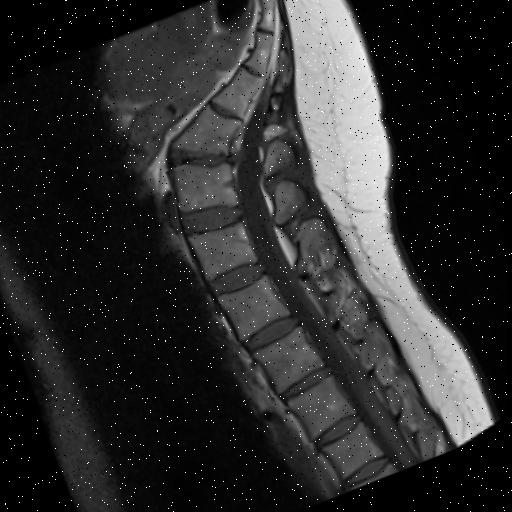L1: (288, 375, 354, 440)
L2: (255, 326, 324, 392)
L3: (218, 276, 288, 339)
L4: (189, 220, 256, 278)
L5: (174, 162, 239, 208)
S1: (172, 104, 240, 154)
